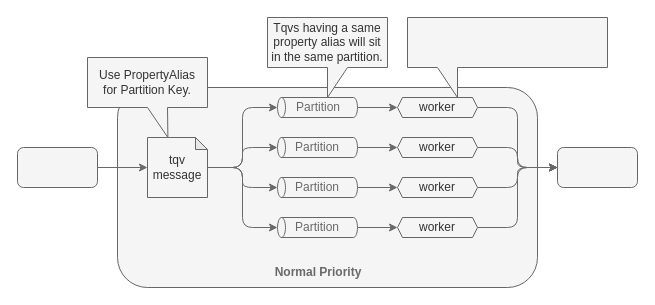
Some shapes in this 655 by 305 pixel diagram are drawn without their labels. Each missing label, with the box of its shape:
Listener: (16, 146, 98, 188)
Read partition periodically to aggregate and send them by 10.: (406, 16, 608, 98)
Sender: (556, 146, 638, 188)
